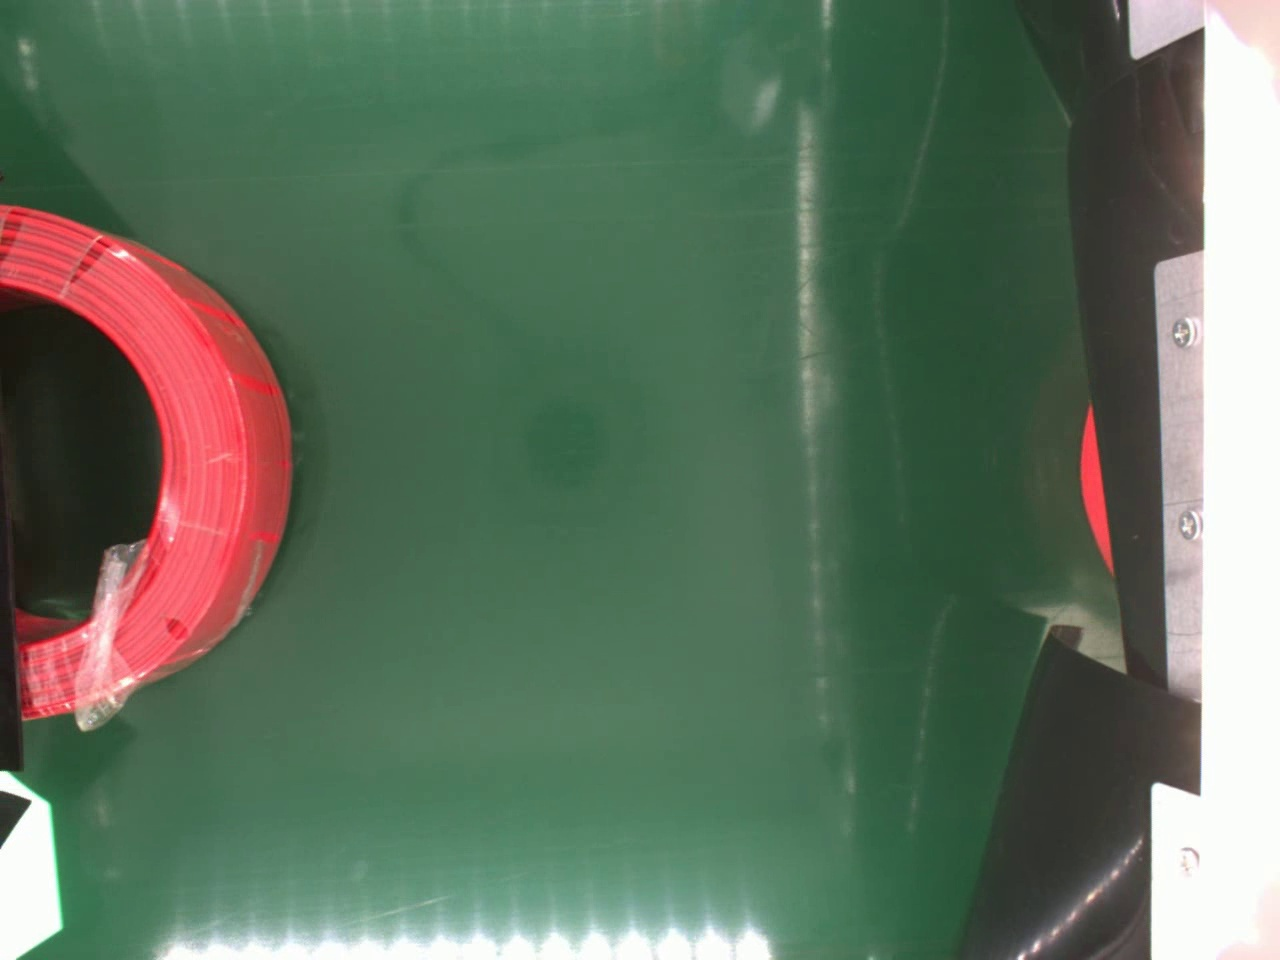red: (0, 200, 292, 722)
